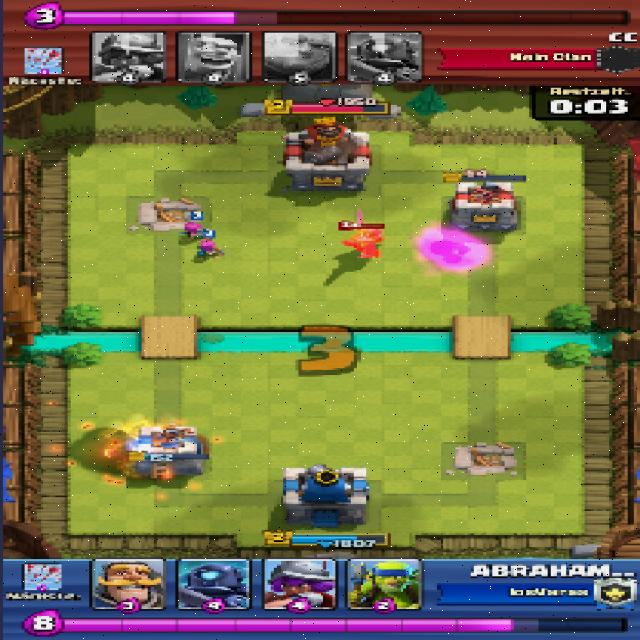Enemy-Fireball: (99, 421, 219, 492)
Enemy-Knight: (336, 222, 387, 257)
Player-Archer: (189, 239, 224, 260), (178, 218, 210, 239)
